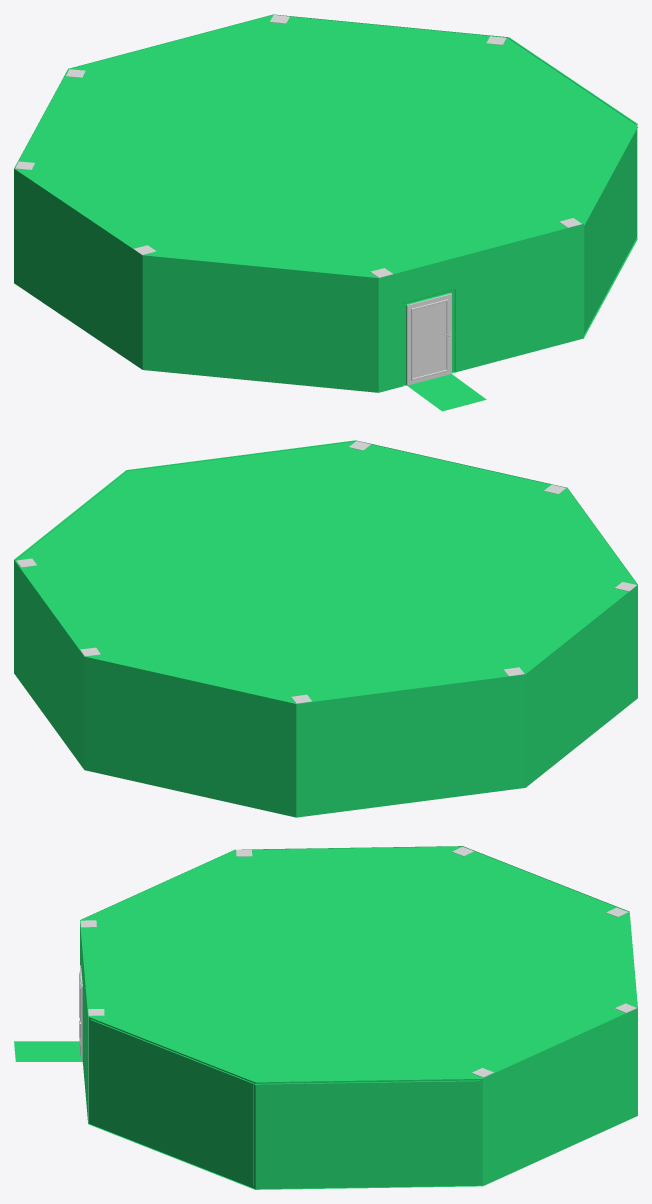
The model's file is Room3D.fbx.
3 renders of one model, top to bottom at view 1: azimuth 30°, elevation 25°; view 2: azimuth 150°, elevation 25°; view 3: azimuth 270°, elevation 25°, orthographic. The views are drawn at different scales.
Parts seen in each view (by area): view 1: Roof, Walls, Glas Windows, Door, Exterior Platform, AluminioWindows, Door Frame; view 2: Roof, Walls, AluminioWindows; view 3: Roof, Glas Windows, Walls, AluminioWindows, Exterior Platform.
Part boxes in pixels (x1=…): Roof: x1=14, y1=15, x2=637, y2=277; Walls: x1=14, y1=14, x2=583, y2=392; Glas Windows: x1=584, y1=130, x2=636, y2=332; Door: x1=406, y1=293, x2=451, y2=385; Exterior Platform: x1=407, y1=374, x2=486, y2=411; AluminioWindows: x1=507, y1=37, x2=637, y2=337; Door Frame: x1=402, y1=289, x2=455, y2=386; Roof: x1=15, y1=441, x2=637, y2=703; Walls: x1=14, y1=440, x2=637, y2=817; AluminioWindows: x1=14, y1=440, x2=356, y2=560; Roof: x1=80, y1=846, x2=637, y2=1082; Glas Windows: x1=91, y1=1021, x2=479, y2=1186; Walls: x1=80, y1=846, x2=637, y2=1185; AluminioWindows: x1=88, y1=1016, x2=482, y2=1189; Exterior Platform: x1=14, y1=1041, x2=81, y2=1061.
Bounding box in the file's own units: 1406 × 300 × 1572.
